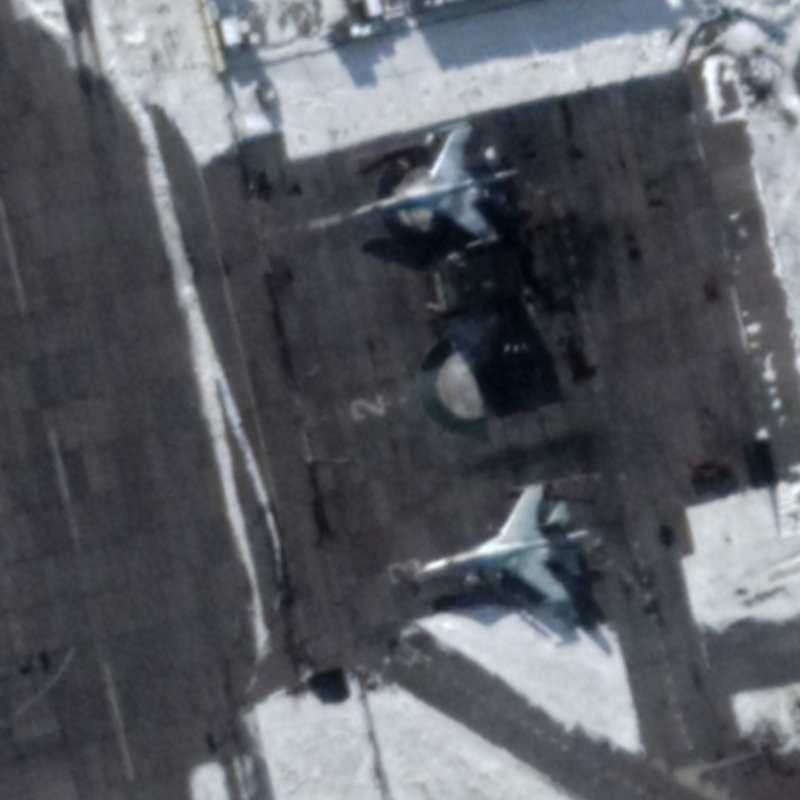A1: (410, 479, 596, 612), (346, 116, 521, 254)
